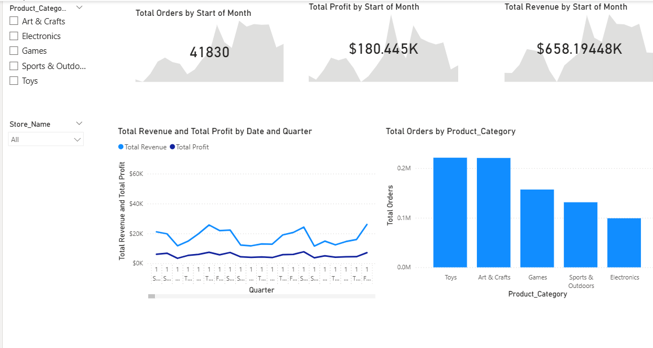

The page's visual inventory and layout, read from the dashboard file:
{"tool":"powerbi","page":{"name":"Page 1","canvas":[1280,720],"ordinal":0},"visuals":[{"type":"kpi","fields":{"Indicator":["sales.Total Profit"],"TrendLine":["calendar.Start of Month"]},"box":[588.7,0,300.5,161.9],"z":0},{"type":"kpi","fields":{"Indicator":["sales.Total Revenue"],"TrendLine":["calendar.Start of Month"]},"box":[968.8,0,300.5,161.9],"z":1000},{"type":"kpi","fields":{"Indicator":["sales.Total Orders"],"TrendLine":["calendar.Start of Month"]},"box":[252.5,12.3,297.8,149.6],"z":2000},{"type":"columnChart","fields":{"Category":["products.Product_Category"],"Y":["sales.Total Orders"]},"box":[738.6,241.4,541.4,340],"z":3000},{"type":"lineChart","fields":{"Y":["sales.Total Revenue","sales.Total Profit"],"Category":["calendar.Date Hierarchy.Date","calendar.Date Hierarchy.Quarter"]},"box":[218.6,241.4,510,340],"z":4000},{"type":"slicer","fields":{"Values":["products.Product_Category"]},"box":[0,0,167.4,175.6],"z":5000},{"type":"slicer","fields":{"Values":["stores.Store_Name"]},"box":[0,225.7,167.1,124.3],"z":6000}]}

Visuals, with their boxes on the page's 1280x720 design canvas (x1, y1, x2, y2). These are canvas units, not pixel positions in the 653x348 screenshot, which may show the page scaled, cropped or inside an application window:
kpi - sales.Total Profit x calendar.Start of Month: (589,0,889,162)
kpi - sales.Total Revenue x calendar.Start of Month: (969,0,1269,162)
kpi - sales.Total Orders x calendar.Start of Month: (252,12,550,162)
columnChart - products.Product_Category x sales.Total Orders: (739,241,1280,581)
lineChart - sales.Total Revenue x sales.Total Profit: (219,241,729,581)
slicer - products.Product_Category: (0,0,167,176)
slicer - stores.Store_Name: (0,226,167,350)
